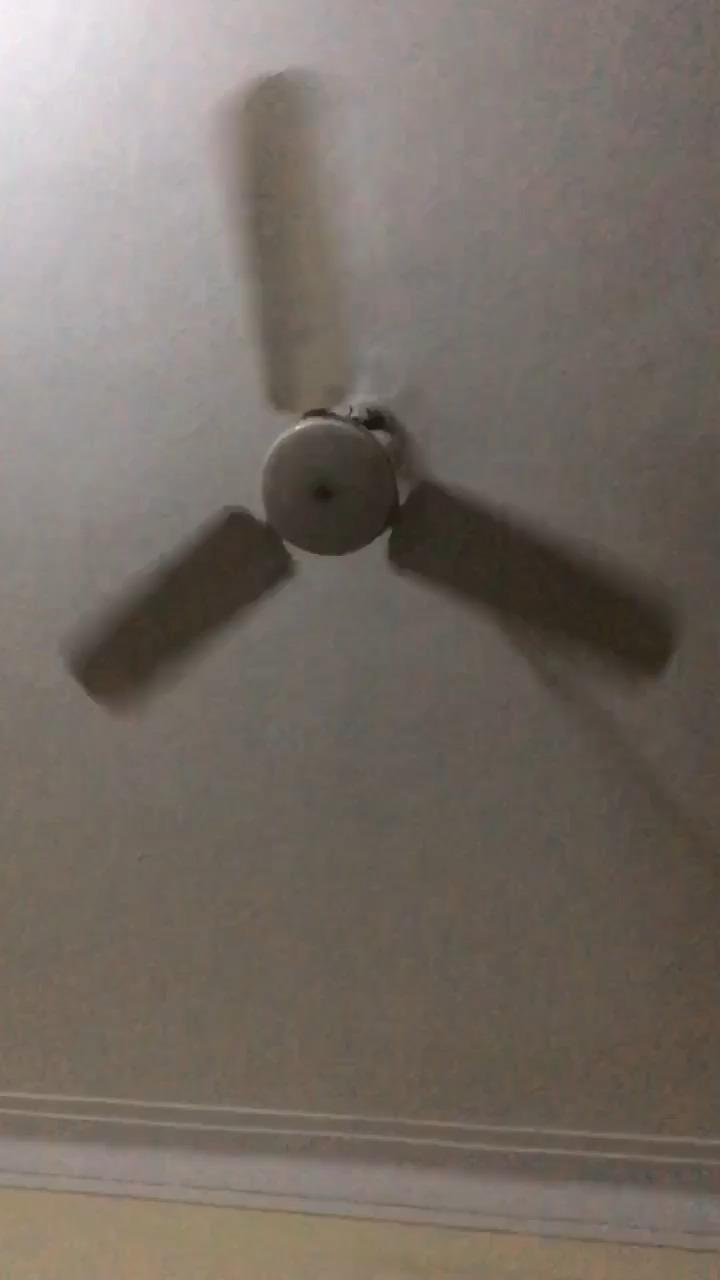light: (259, 406, 400, 557)
